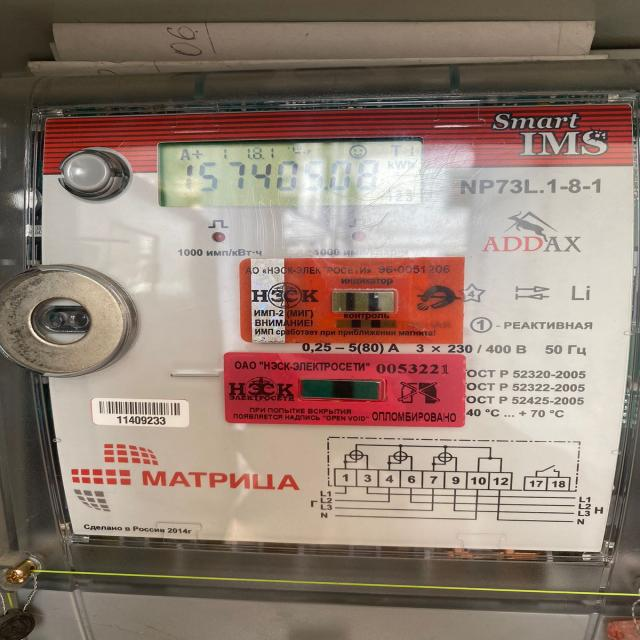Display: (160, 141, 427, 205)
meter_matrica: (38, 104, 634, 561)
meter_number: (92, 398, 191, 427)
seal_imp: (240, 257, 464, 344), (224, 352, 467, 426)
